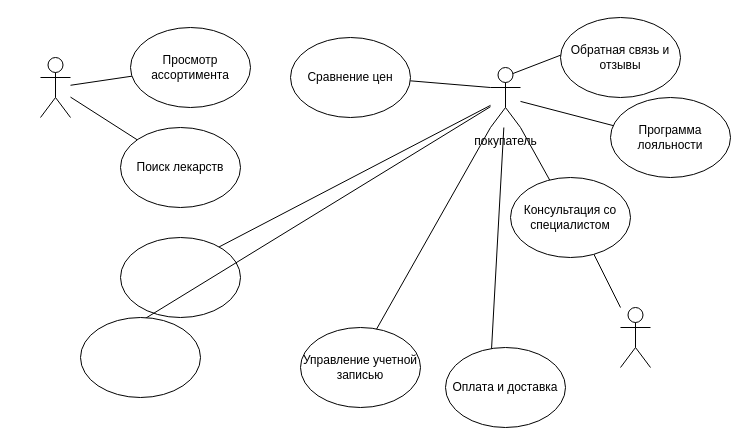
Image size: 748x445. Some labels were removed from this diagram. The centre of each missing label's shape, as x and y in pixels:
"Заказ и бронирование" belongs at [180,277].
"Информация о наличии" belongs at [140,357].
"пользователь" belongs at [55,87].
"фармацефт" belongs at [635,337].
